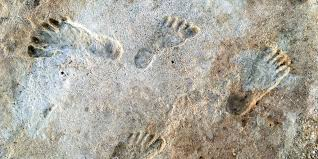human_foot_print: (13, 8, 292, 126)
